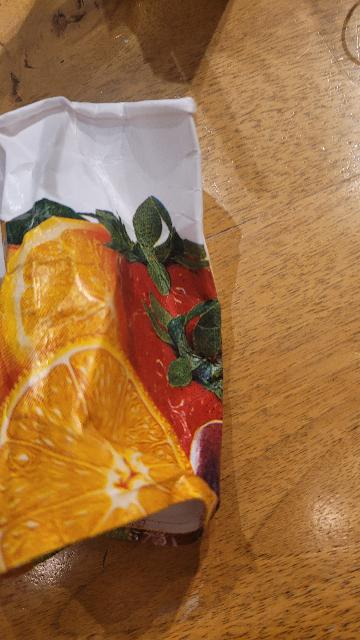Kagit: (0, 92, 225, 581)
